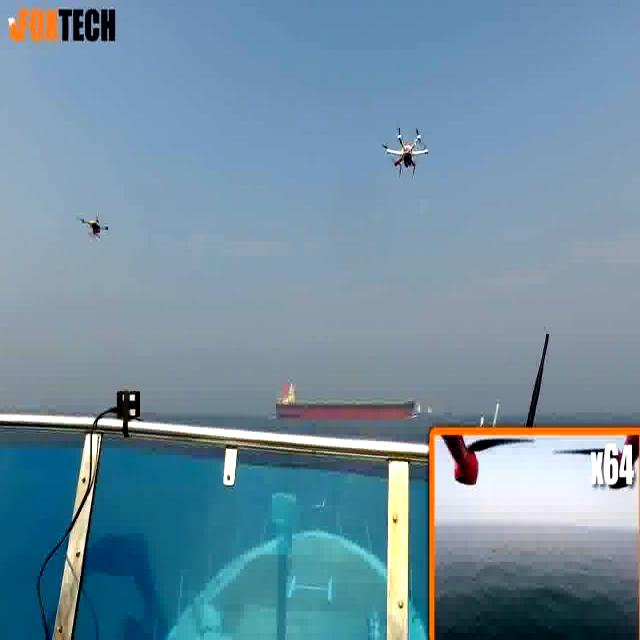drone: (375, 115, 435, 181), (77, 208, 112, 252)
